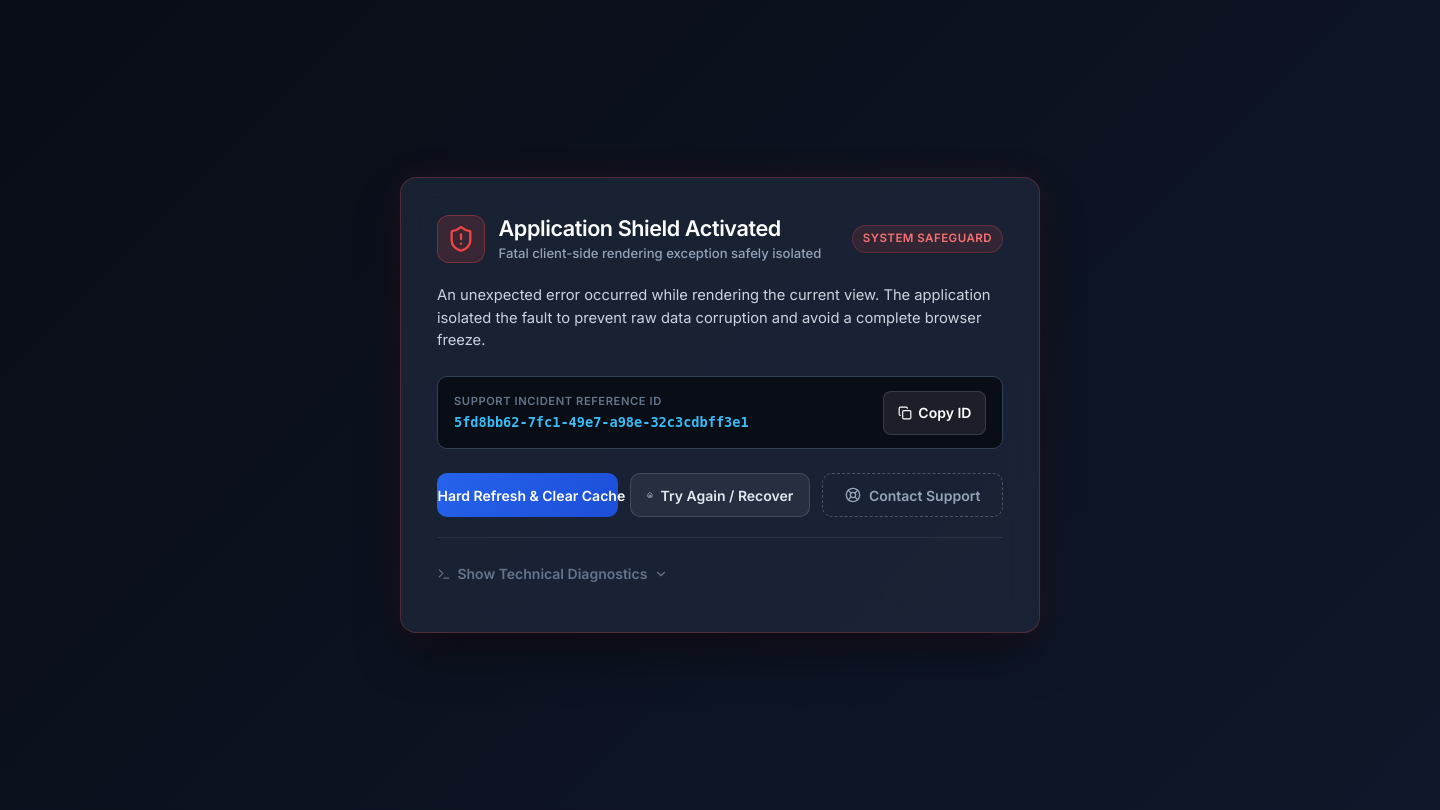
Phase 1: Silent Client-Side Crashes & Resilient Error Telemetry › TC-CRASH-01: Root Error Boundary Fatal Render Crash Containment › toggles technical diagnostics accordion when user clicks button
Click to expand
Click the button "Show Technical Diagnostics" at (552, 574), box [437, 552, 668, 596]
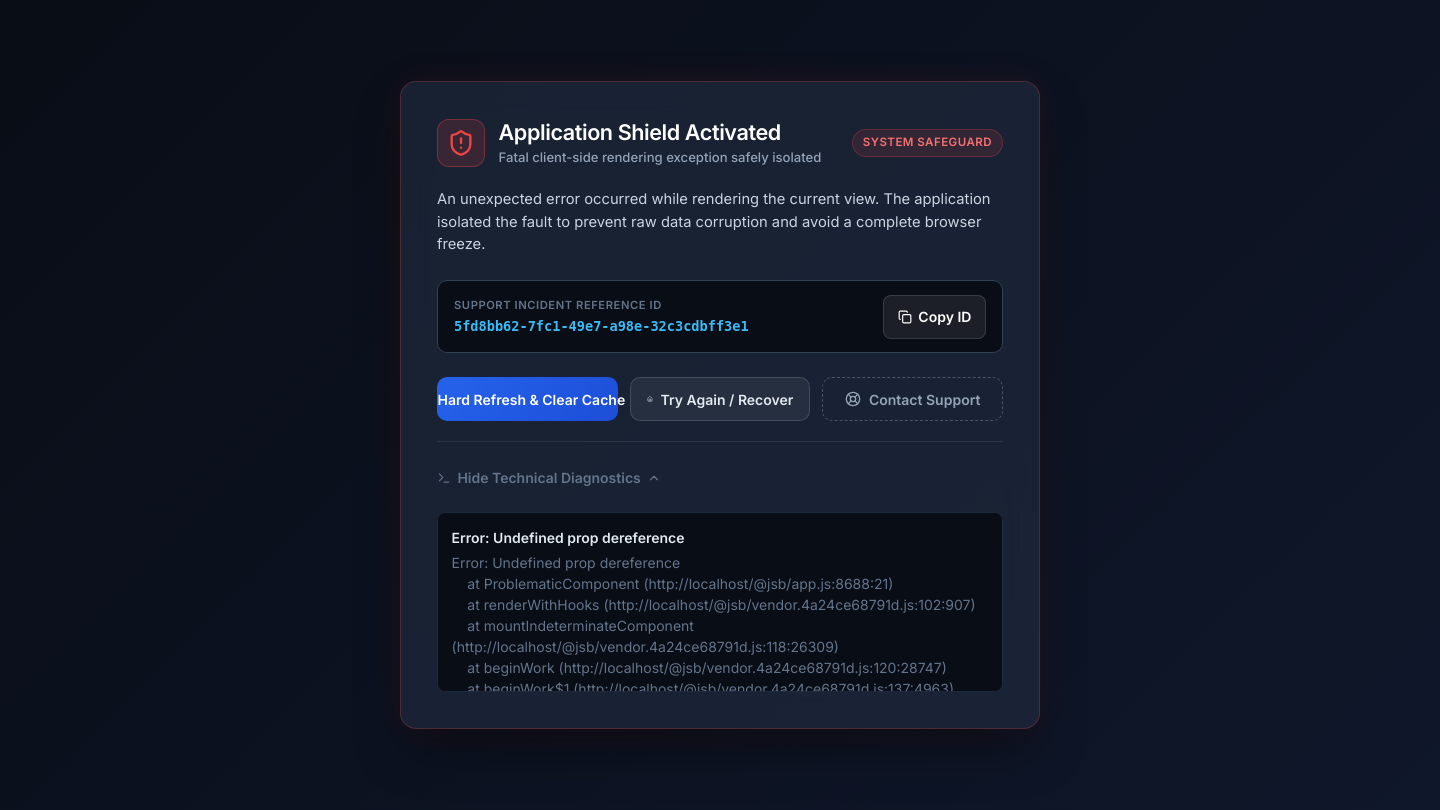
Expected: the element with test id "crash-technical-details" is shown, [437, 512, 1003, 692]
Expected: the element with test id "crash-technical-details" shows "Undefined prop dereference", [493, 529, 684, 546]
Click to collapse
Click the button "Hide Technical Diagnostics" at (549, 478), box [437, 456, 661, 500]
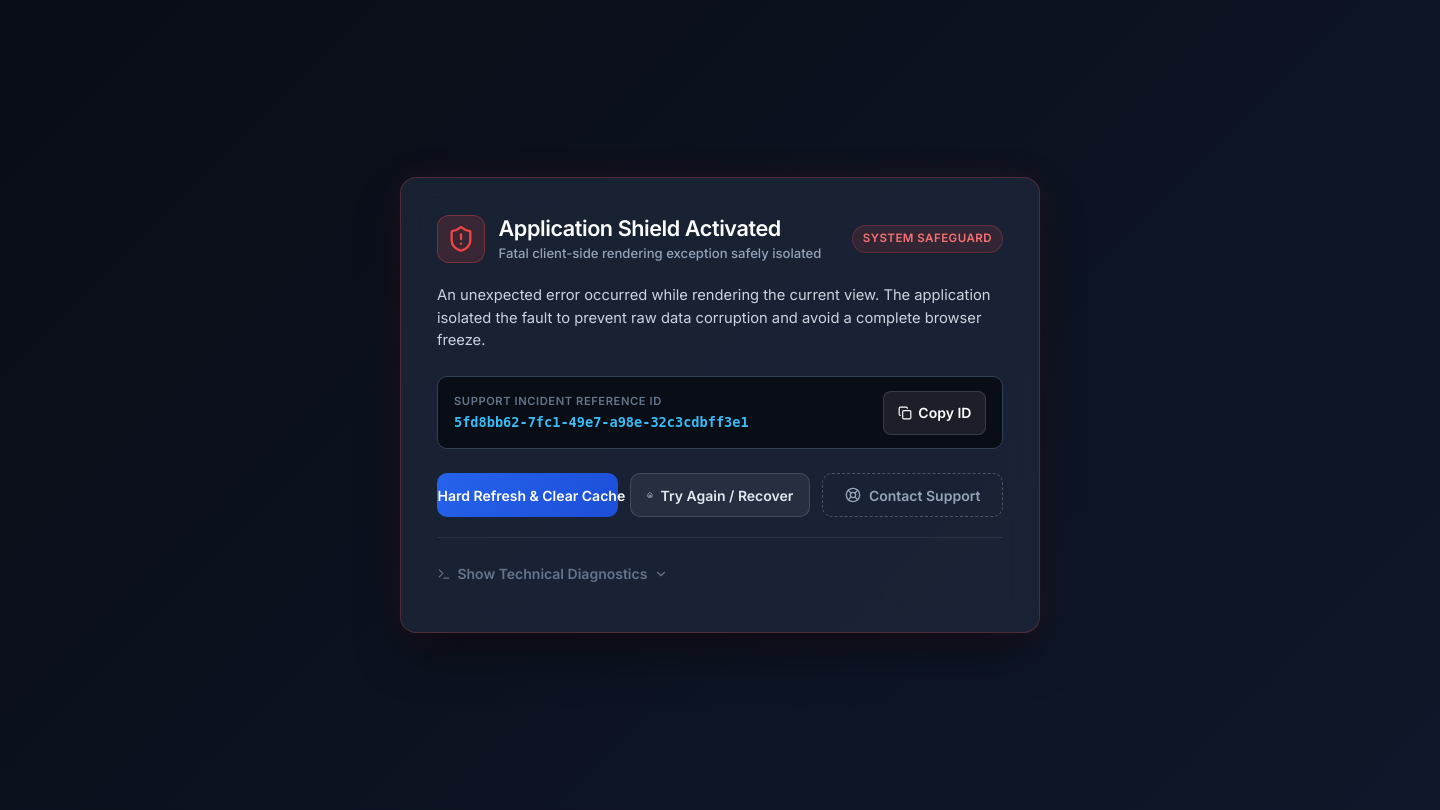
Expected: the element with test id "crash-technical-details" is gone
